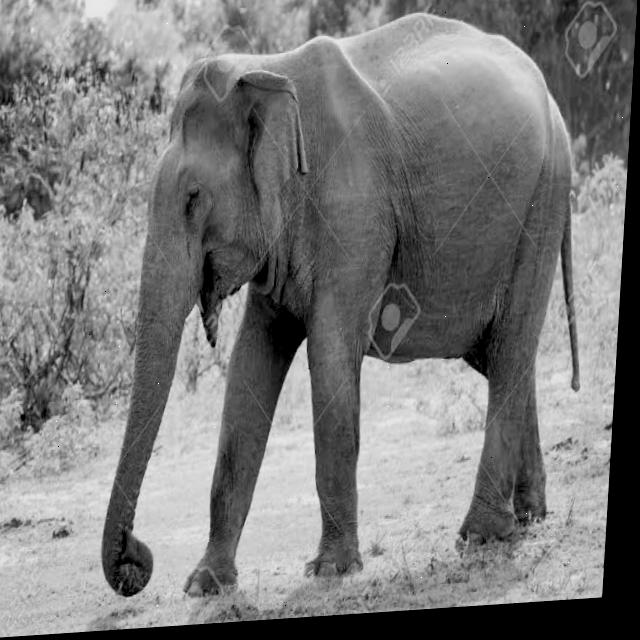Elephant: (97, 0, 603, 604)
